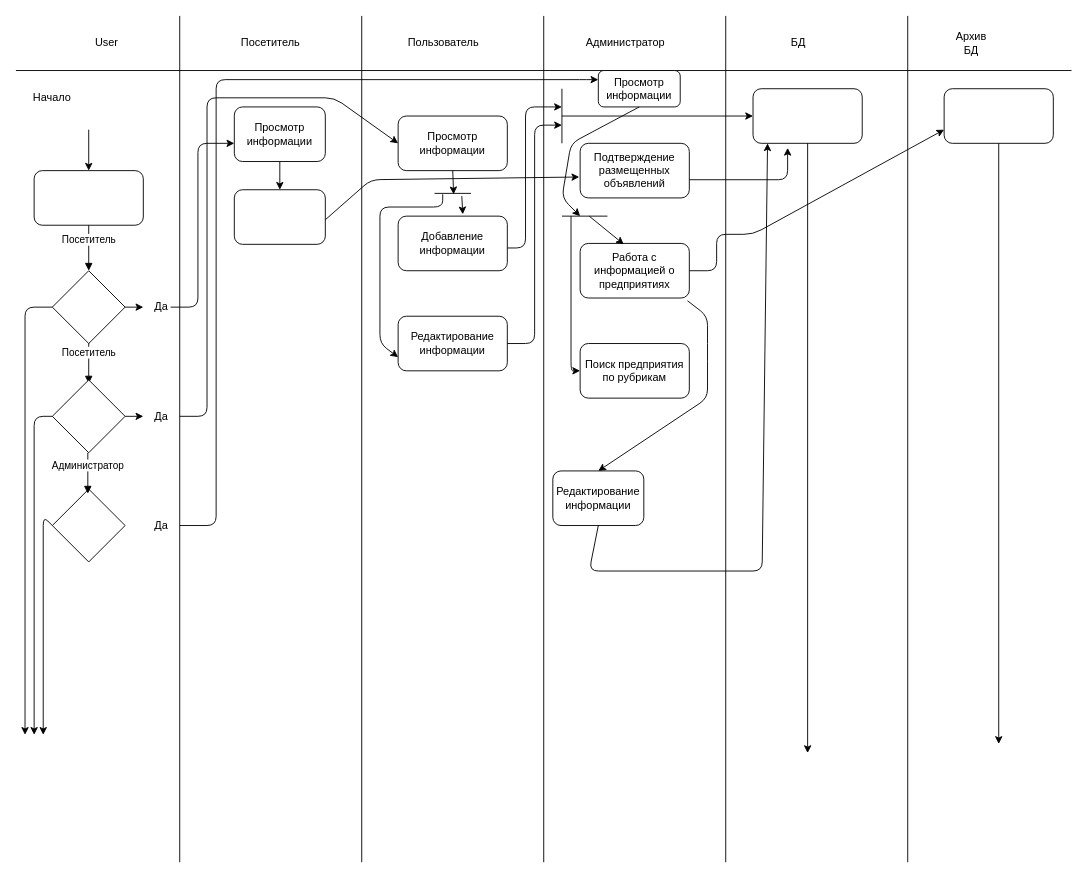
The diagram is 1088 pixels wide and 879 high, and some of its shapes have lost their labels. The centre of each missing label's shape, as x and y in pixels:
"Вход в систему" goes at pixel 88 197.
"Размещение объявлений" goes at pixel 279 216.
"Сохранение информации" goes at pixel 807 115.
"Удаление информации" goes at pixel 998 115.
